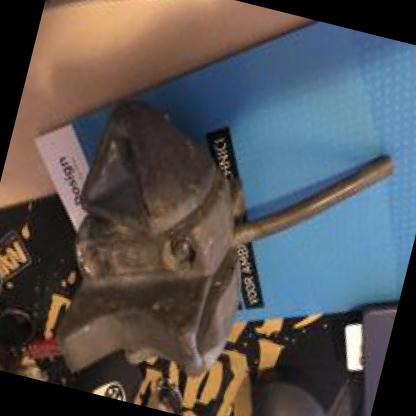Twistlock: (36, 62, 411, 415)
